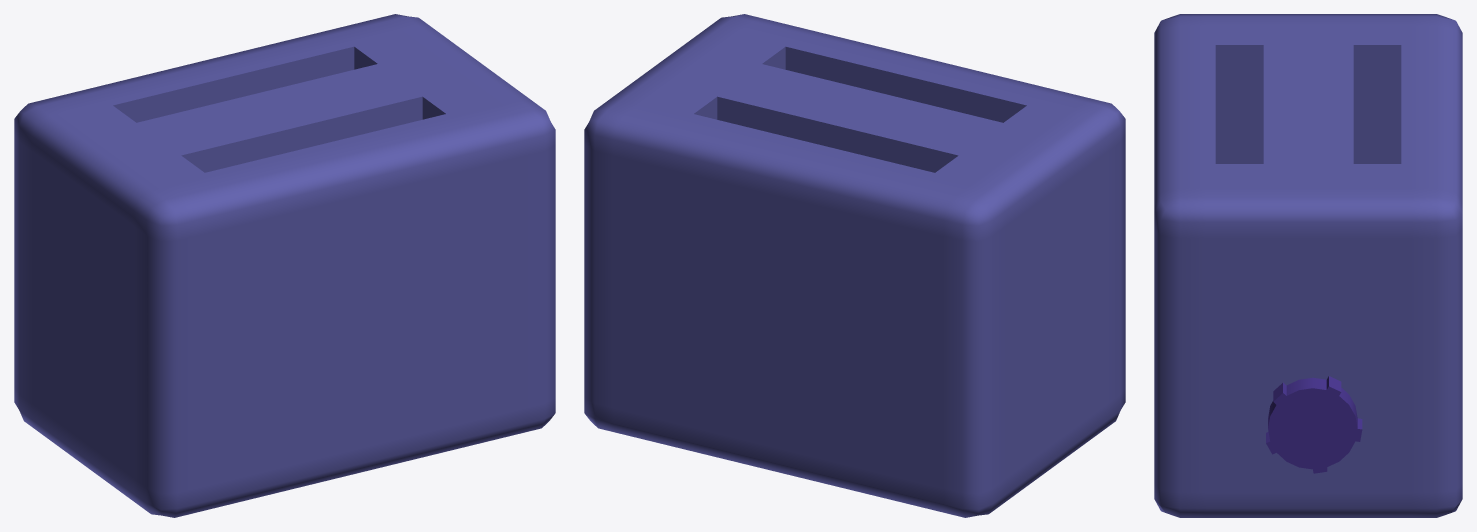
File: Toaster.fbx
3 renders of one model, left to right at view 1: azimuth 30°, elevation 25°; view 2: azimuth 150°, elevation 25°; view 3: azimuth 270°, elevation 25°, orthographic.
Parts seen in each view (by area): view 1: pCube4; view 2: pCube4; view 3: pCube4, pCylinder1.
Part boxes in pixels (x1,y1,x2,y2): pCube4: (14, 14, 555, 517); pCube4: (584, 14, 1125, 517); pCube4: (1154, 14, 1462, 517); pCylinder1: (1266, 376, 1362, 473).
Bounding box in the file's own units: 1.03 × 0.7286 × 0.6403.
